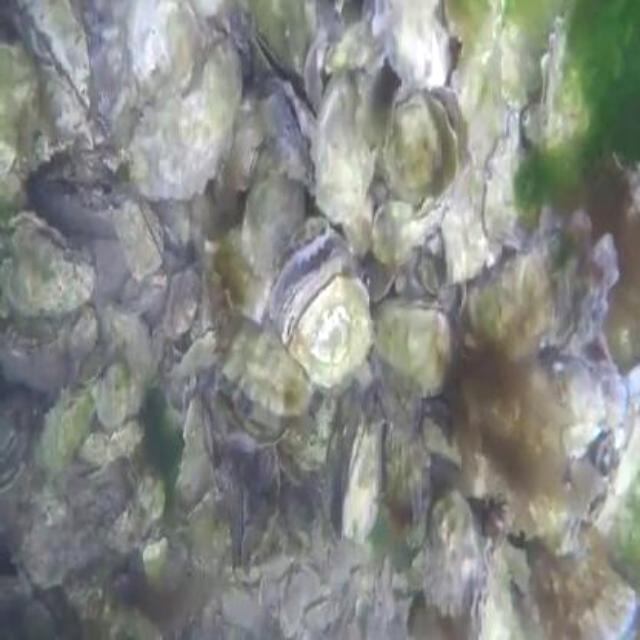Oyster-Closed: (442, 0, 530, 292), (129, 40, 247, 202), (96, 0, 206, 142), (312, 72, 378, 226), (238, 174, 312, 280), (422, 492, 480, 622), (34, 383, 98, 473), (116, 196, 172, 284), (94, 364, 132, 428)
Oyster-Open: (264, 225, 376, 395), (222, 316, 312, 444), (0, 208, 100, 322), (2, 0, 96, 118), (380, 76, 460, 208), (371, 296, 454, 400), (255, 78, 325, 190), (561, 232, 623, 356), (537, 7, 589, 147), (369, 0, 445, 91), (338, 416, 388, 546), (270, 392, 340, 483), (469, 536, 518, 640), (590, 429, 630, 523), (158, 262, 202, 342), (243, 24, 295, 84), (300, 26, 332, 114), (403, 242, 445, 300)
